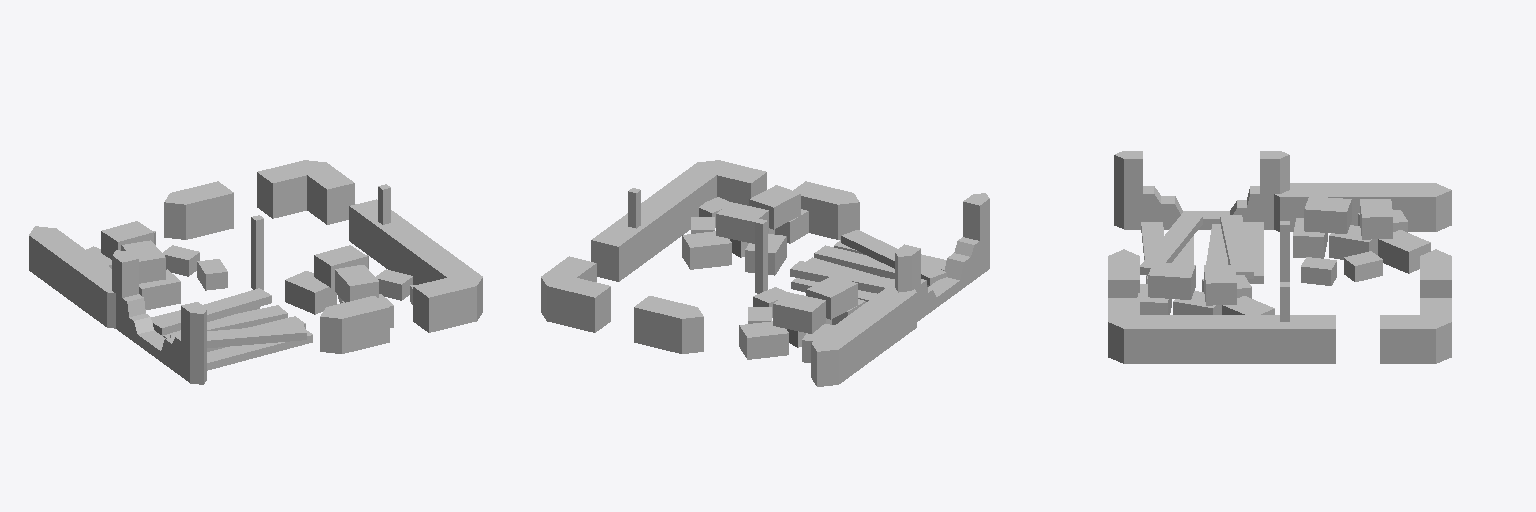
The model's file is Casa 13 Rota.obj.
3 renders of one model, left to right at view 1: azimuth 30°, elevation 25°; view 2: azimuth 150°, elevation 25°; view 3: azimuth 270°, elevation 25°, orthographic.
Size of the model in its own units: 2.21 by 0.5 by 2.21.